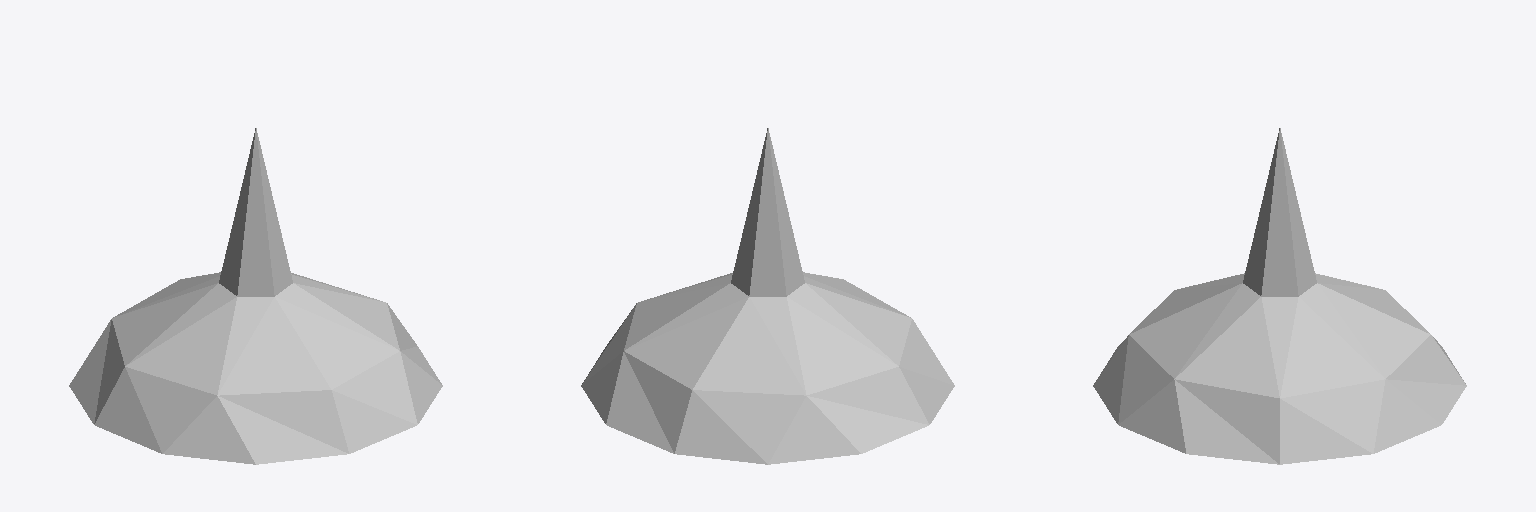
Rendered from stg600_obj_planterA_bp3.obj.
3 views of the same model, side by side, from view 1: azimuth 30°, elevation 25°; view 2: azimuth 150°, elevation 25°; view 3: azimuth 270°, elevation 25° (orthographic).
Visible parts, largest first — view 1: polygon0; view 2: polygon0; view 3: polygon0.
Boxes of the visible parts, <box> form: polygon0: <box>69,128,442,464</box>; polygon0: <box>581,128,954,464</box>; polygon0: <box>1093,128,1466,464</box>.
Size of the model in its own units: 12.96 by 9.92 by 12.96.